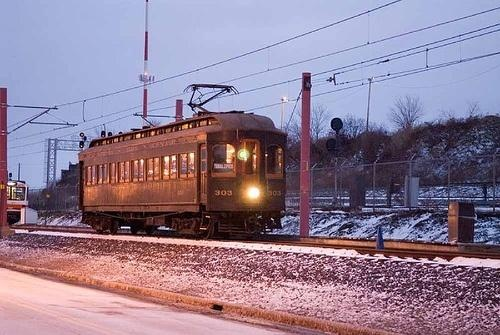train: (81, 85, 288, 239), (8, 179, 28, 224)
